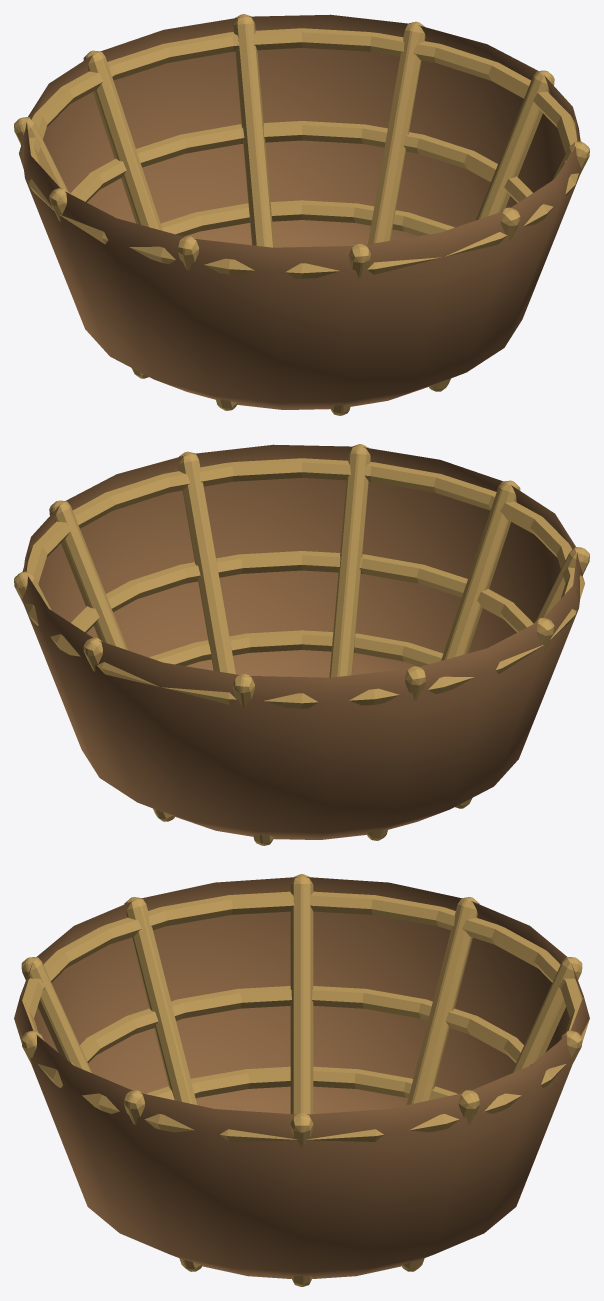
File: SM_HH_Art_Basket.fbx
3 views of the same model, one above another, from view 1: azimuth 30°, elevation 25°; view 2: azimuth 150°, elevation 25°; view 3: azimuth 270°, elevation 25° (orthographic).
Parts seen in each view (by area): view 1: HH_Art_Basket; view 2: HH_Art_Basket; view 3: HH_Art_Basket.
Part boxes in pixels (<box>): HH_Art_Basket: <box>14,14,589,415</box>; HH_Art_Basket: <box>14,444,589,845</box>; HH_Art_Basket: <box>14,874,589,1286</box>.
Size of the model in its own units: 0.46 by 0.4701 by 0.2007.
